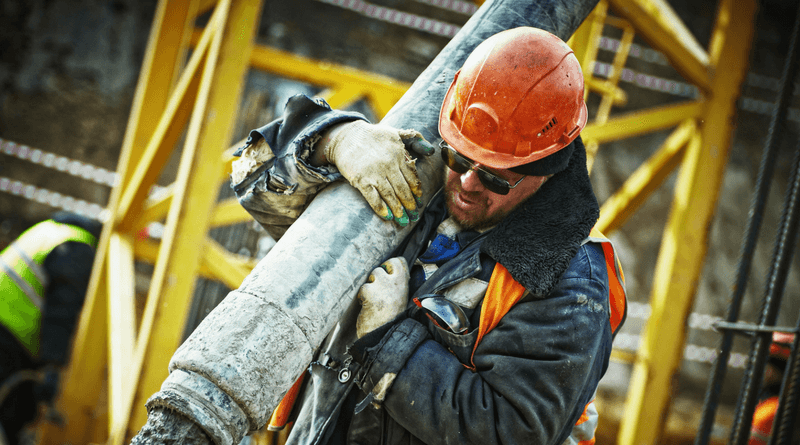Hard Hat: (444, 21, 581, 166)
